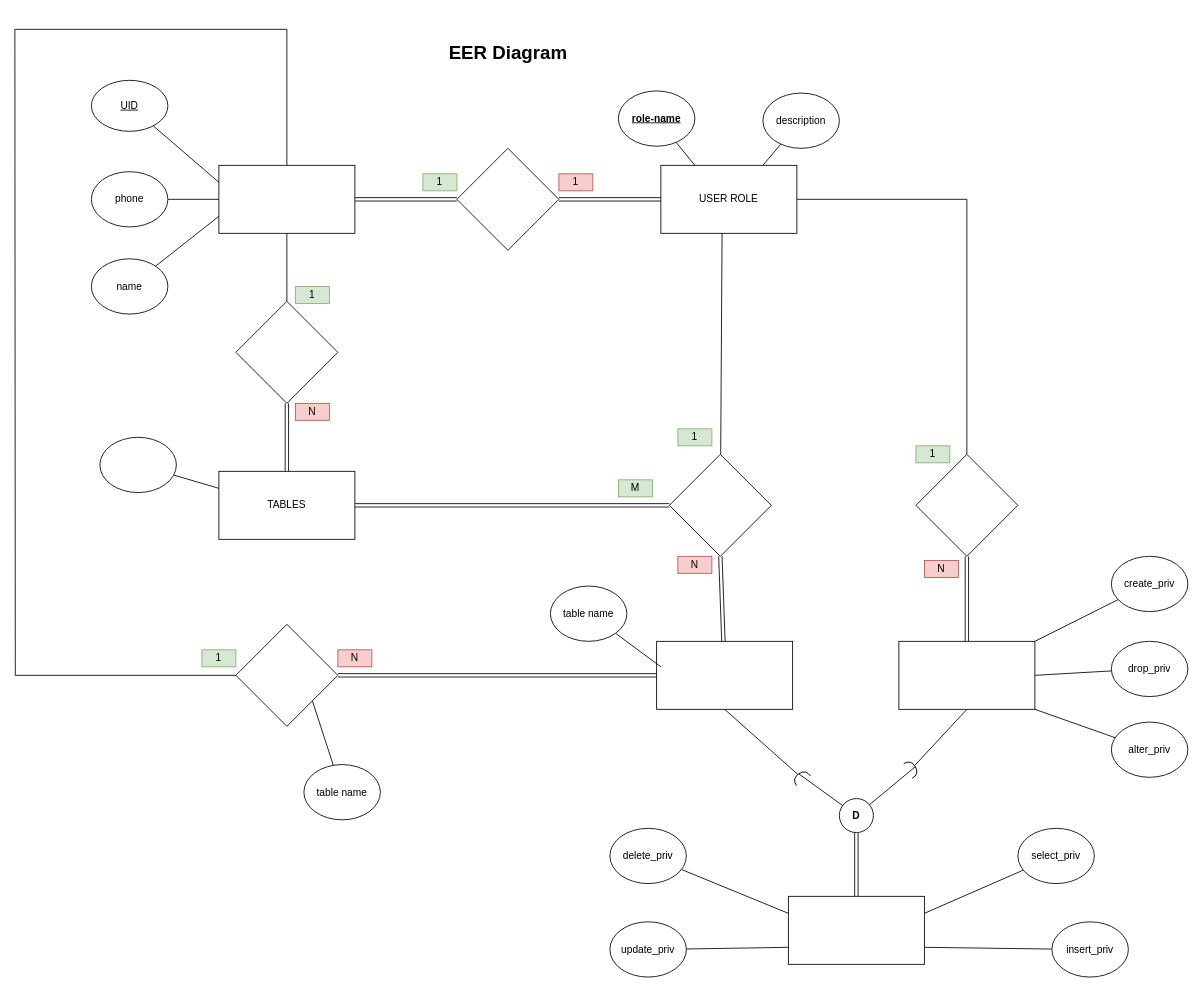
This 1203x992 diagram has some shape labels left out. The box of each missing label's shape, as (x1, y1, x2, y2) in pixels:
ACCOUNT-PRIVILEGE: (898, 640, 1035, 709)
GRANTS: (235, 623, 338, 726)
Has Access: (669, 453, 771, 556)
Has Privilege: (915, 453, 1018, 556)
IS A: (456, 147, 559, 250)
OWNS: (235, 300, 338, 403)
PRIVILEGE: (788, 895, 924, 964)
RELATION-PRIVILEGE: (656, 640, 793, 709)
table-name: (99, 436, 176, 493)
USER ACCOUNT: (218, 164, 355, 233)
